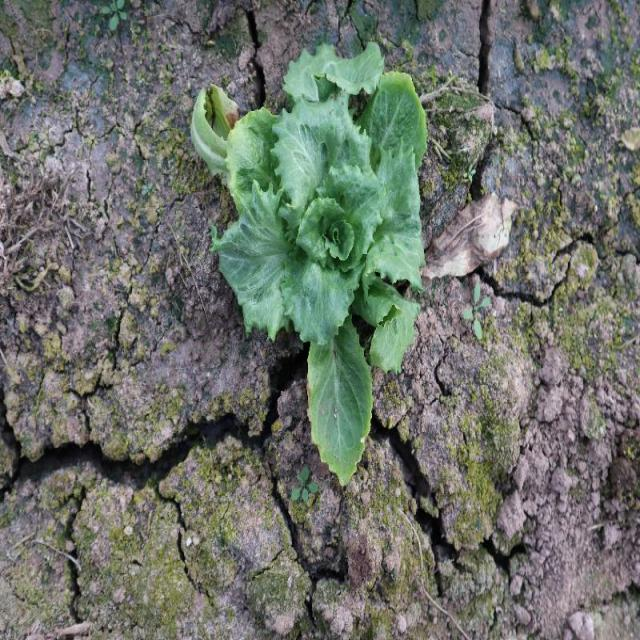crop: (187, 40, 431, 488)
